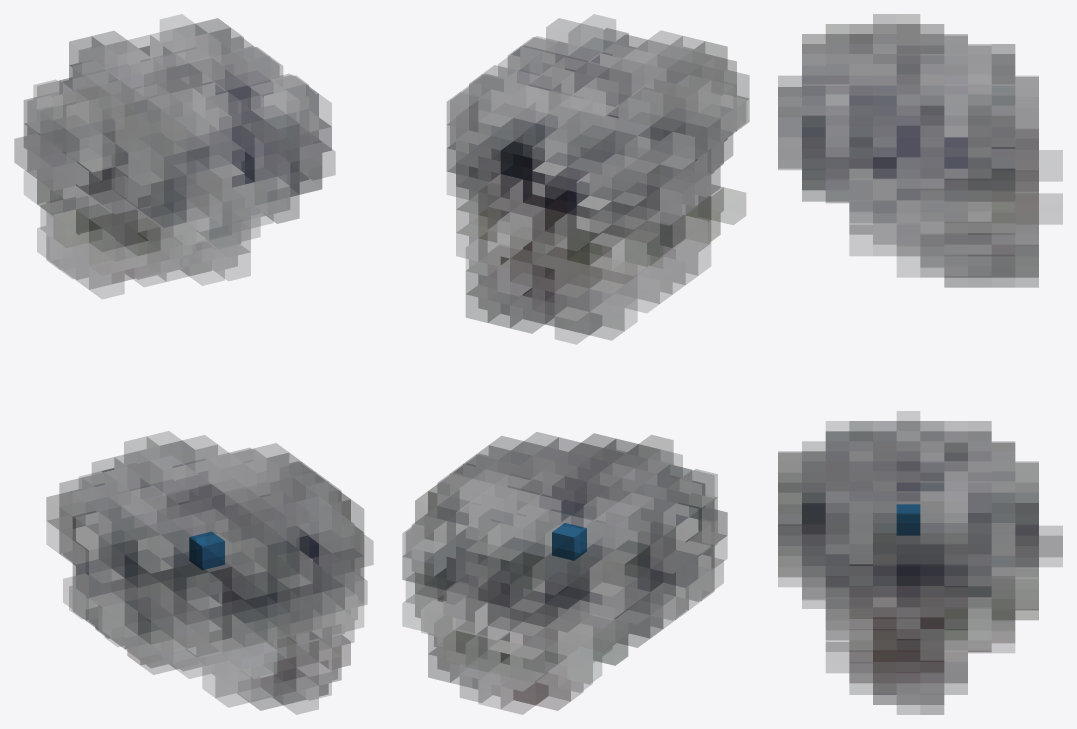
The model's file is iter_15.obj.
3 views of the same model, side by side, from view 1: azimuth 30°, elevation 25°; view 2: azimuth 150°, elevation 25°; view 3: azimuth 270°, elevation 25° (orthographic). The views are drawn at different scales.
Parts seen in each view (by area): view 1: iter_15; view 2: iter_15; view 3: iter_15.
Part boxes in pixels (left/top/right/bottom): iter_15: left=14, top=15, right=373, bottom=714; iter_15: left=402, top=14, right=749, bottom=714; iter_15: left=778, top=14, right=1062, bottom=714.
Size of the model in its own units: 1.3 by 2.7 by 1.2.
